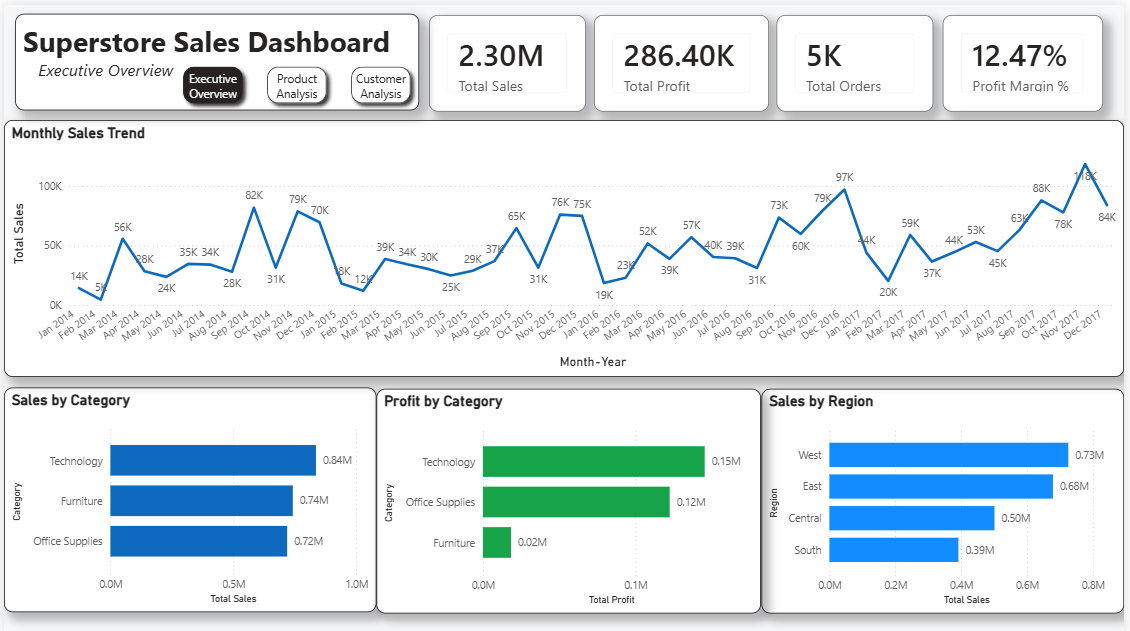

What the dashboard file says about the page in this screenshot:
{"tool":"powerbi","page":{"name":"Executive Overview","canvas":[1280,720],"ordinal":0},"visuals":[{"type":"cardVisual","fields":{"Data":["Superstore.Total Sales"]},"box":[485.7,11.4,194.3,110],"z":0},{"type":"cardVisual","fields":{"Data":["Superstore.Total Profit"]},"box":[692.9,11.4,200,110.4],"z":1000},{"type":"cardVisual","fields":{"Data":["Superstore.Total Orders"]},"box":[908.6,11.4,179.1,110.4],"z":2000},{"type":"cardVisual","fields":{"Data":["Superstore.Profit Margin %"]},"box":[1097.1,10,182.8,110.4],"z":3000},{"type":"clusteredBarChart","title":" Sales by Region","fields":{"Y":["Superstore.Total Sales"],"Category":["Superstore.Region"]},"box":[865,438,414.7,256.4],"z":4000},{"type":"clusteredBarChart","title":"Sales by Category","fields":{"Category":["Superstore.Category"],"Y":["Superstore.Total Sales"]},"box":[0,437.1,425.8,256.4],"z":5000},{"type":"lineChart","title":"Monthly Sales Trend","fields":{"Y":["Superstore.Total Sales"],"Category":["Superstore.Month-Year"]},"box":[0,131.3,1279.8,293.3],"z":6000},{"type":"clusteredBarChart","title":"Profit by Category","fields":{"Y":["Superstore.Total Profit"],"Category":["Superstore.Category"]},"box":[425.8,438,439.3,256.4],"z":7000},{"type":"textbox","box":[12.9,10,461.4,110.4],"z":9000},{"type":"pageNavigator","box":[195.1,61.4,278.5,60.1],"z":10000}]}

Visuals, with their boxes in screenshot pixels (x1, y1, x2, y2), scaled from the page's 1280x720 canvas onto the 1130x631 screenshot:
cardVisual - Superstore.Total Sales: rect(429, 10, 600, 106)
cardVisual - Superstore.Total Profit: rect(612, 10, 788, 107)
cardVisual - Superstore.Total Orders: rect(802, 10, 960, 107)
cardVisual - Superstore.Profit Margin %: rect(969, 9, 1129, 106)
" Sales by Region" clusteredBarChart: rect(764, 384, 1129, 609)
"Sales by Category" clusteredBarChart: rect(0, 383, 376, 608)
"Monthly Sales Trend" lineChart: rect(0, 115, 1129, 372)
"Profit by Category" clusteredBarChart: rect(376, 384, 764, 609)
textbox: rect(11, 9, 419, 106)
pageNavigator: rect(172, 54, 418, 106)
